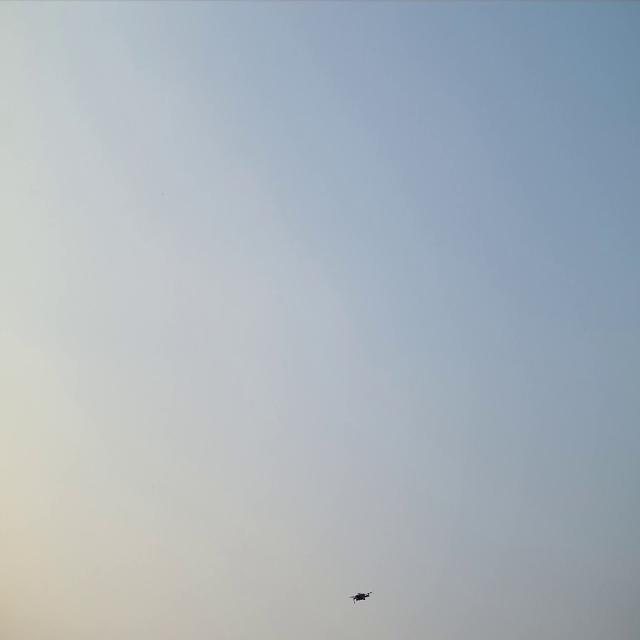UAV: (348, 588, 373, 605)
